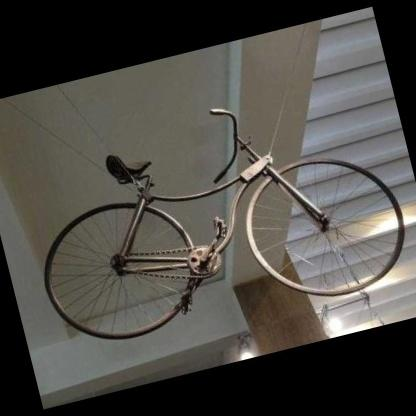Bicycle: (37, 91, 414, 355)
